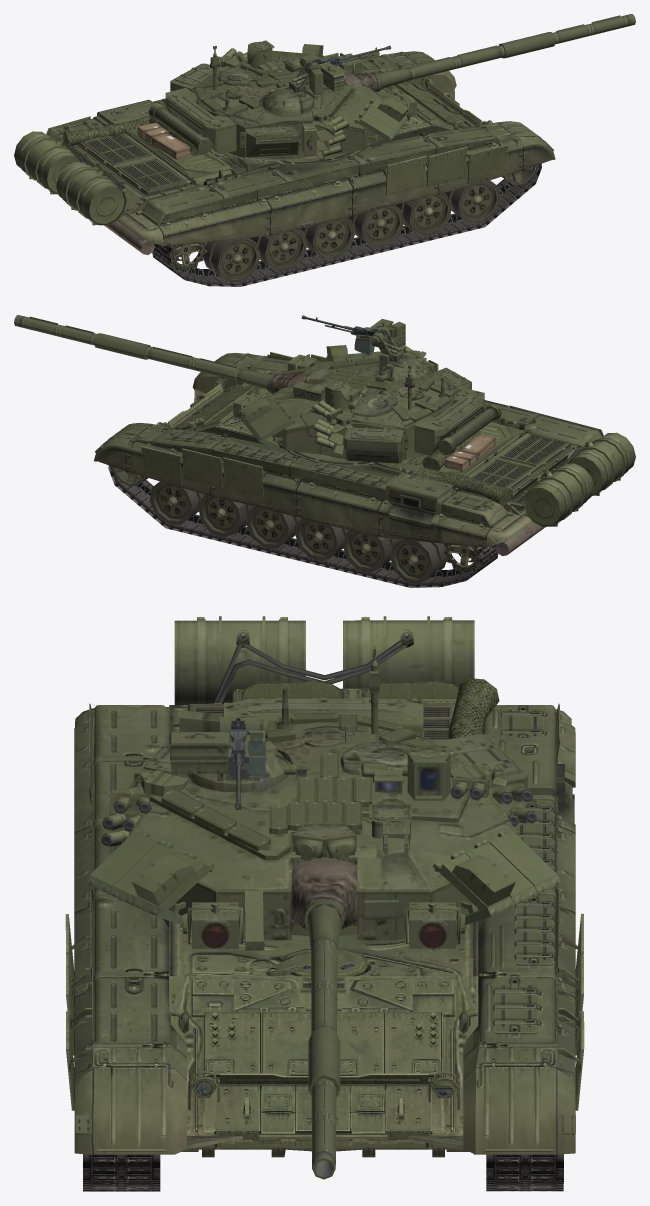
The picture shows the model from 3 angles, top to bottom: view 1: azimuth 30°, elevation 25°; view 2: azimuth 150°, elevation 25°; view 3: azimuth 270°, elevation 25°; orthographic projection. The views are drawn at different scales.
Visible parts, largest first — view 1: guard, hull.001, t-90-turret-extra, gear533, turret.001, track.001, weapon.001, skirt4, skirt5, skirt3, skirt8, era22 (+39 smaller); view 2: guard, hull.001, t-90-turret-extra, gear533, turret.001, track2, weapon.001, skirt13, skirt14, skirt12, gear556, era31 (+39 smaller); view 3: guard, turret.001, hull.001, gear533, t-90-turret-extra, weapon.001, frame.001, shtora sensor, frame, mount.001, mgbracket, era30 (+33 smaller).
Part boxes in pixels (left/top/right/bottom): guard: left=48, top=51, right=555, bottom=245; hull.001: left=68, top=69, right=492, bottom=252; t-90-turret-extra: left=148, top=40, right=319, bottom=156; gear533: left=14, top=131, right=126, bottom=225; turret.001: left=191, top=56, right=383, bottom=159; track.001: left=152, top=140, right=541, bottom=286; weapon.001: left=379, top=14, right=635, bottom=88; skirt4: left=267, top=190, right=352, bottom=235; skirt5: left=163, top=210, right=270, bottom=246; skirt3: left=349, top=172, right=438, bottom=215; skirt8: left=257, top=165, right=358, bottom=201; era22: left=386, top=156, right=426, bottom=195; guard: left=94, top=352, right=601, bottom=547; hull.001: left=156, top=370, right=583, bottom=553; t-90-turret-extra: left=293, top=367, right=501, bottom=463; gear533: left=523, top=432, right=635, bottom=526; turret.001: left=266, top=357, right=459, bottom=459; track2: left=108, top=441, right=498, bottom=587; weapon.001: left=14, top=315, right=270, bottom=389; skirt13: left=297, top=492, right=382, bottom=536; skirt14: left=379, top=505, right=486, bottom=547; skirt12: left=211, top=474, right=300, bottom=516; gear556: left=416, top=467, right=513, bottom=506; era31: left=141, top=446, right=181, bottom=485; guard: left=74, top=705, right=575, bottom=1154; turret.001: left=125, top=719, right=520, bottom=940; hull.001: left=163, top=688, right=484, bottom=1157; gear533: left=174, top=616, right=474, bottom=704; t-90-turret-extra: left=134, top=697, right=527, bottom=928; weapon.001: left=304, top=902, right=344, bottom=1179; frame.001: left=191, top=979, right=454, bottom=1137; shtora sensor: left=182, top=902, right=465, bottom=948; frame: left=67, top=913, right=582, bottom=1139; mount.001: left=291, top=858, right=357, bottom=930; mgbracket: left=169, top=723, right=265, bottom=776; era30: left=204, top=1012, right=260, bottom=1083.
Bounding box in the file's own units: 9.67 × 2.78 × 3.72.
Materials: 15 (15 with a texture image).
